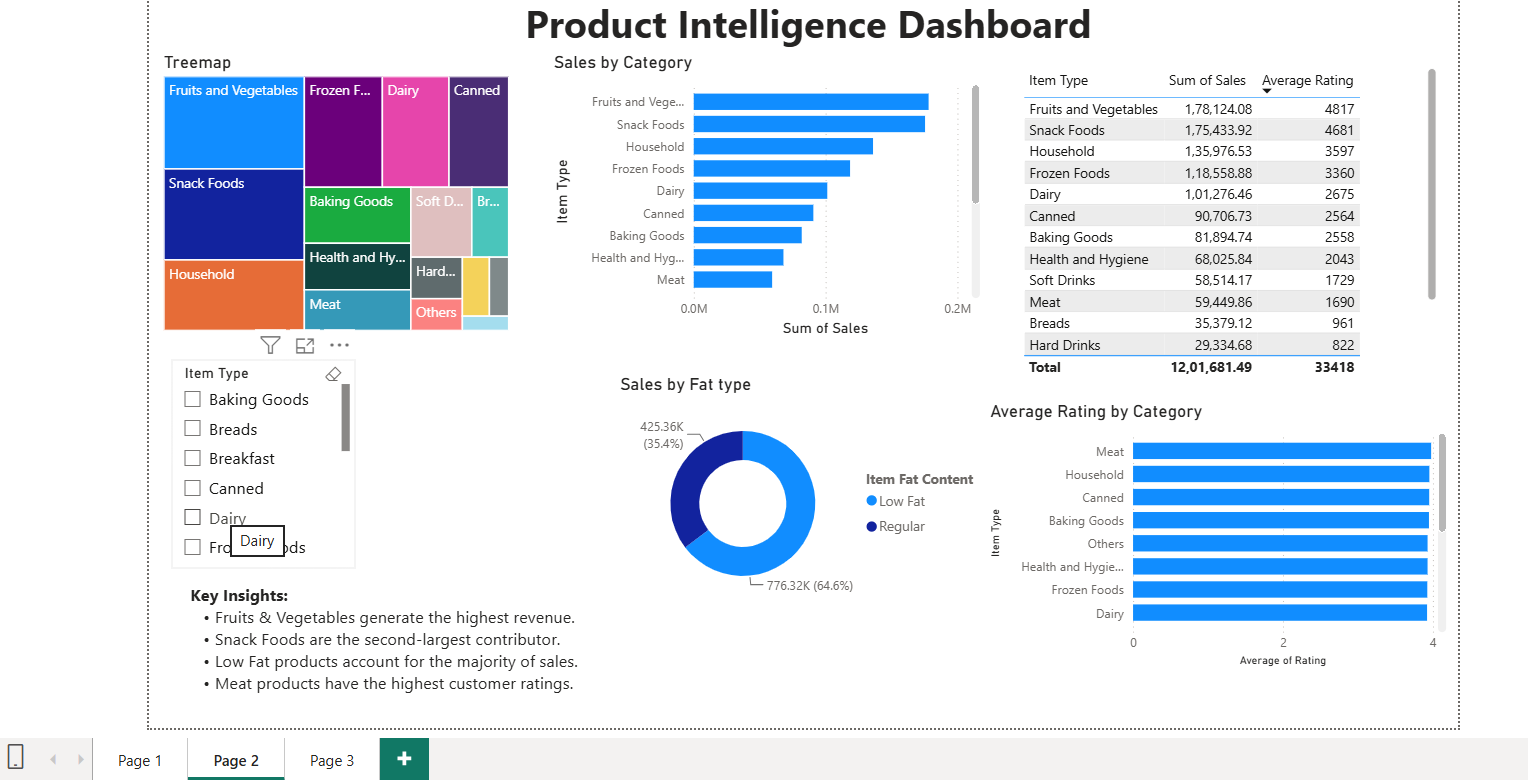

This screenshot's page, from the dashboard's own definition file:
{"tool":"powerbi","page":{"name":"Page 2","canvas":[1280,720],"ordinal":1},"visuals":[{"type":"textbox","box":[9.8,0,1270.5,69.7],"z":0},{"type":"clusteredBarChart","title":"Sales by Category","fields":{"Category":["Sheet1.Item Type"],"Y":["Sum(Sheet1.Sales)"]},"box":[391.3,58.7,426.8,283.7],"z":1000},{"type":"donutChart","title":"Sales by Fat type","fields":{"Category":["Sheet1.Item Fat Content"],"Y":["Sum(Sheet1.Sales)"]},"box":[456.1,373,362,236],"z":2000},{"type":"barChart","title":"Average Rating by Category","fields":{"Category":["Sheet1.Item Type"],"Y":["Avg(Sheet1.Rating)"]},"box":[818.1,399.9,456.1,265.4],"z":3000},{"type":"tableEx","fields":{"Values":["Sheet1.Item Type","Sum(Sheet1.Sales)","Sum(Sheet1.Rating)"]},"box":[849.9,69.7,414.5,311.8],"z":4000},{"type":"treemap","title":"Treemap","fields":{"Group":["Sheet1.Item Type"],"Values":["Sum(Sheet1.Sales)"]},"box":[9.8,58.7,347.3,277.6],"z":5000},{"type":"slicer","fields":{"Values":["Sheet1.Item Type"]},"box":[22,359.5,179.8,204.2],"z":6000},{"type":"textbox","box":[35.5,573.5,446.3,124.7],"z":8000}]}

Visuals, with their boxes on the page's 1280x720 design canvas (x1, y1, x2, y2). These are canvas units, not pixel positions in the 1528x780 screenshot, which may show the page scaled, cropped or inside an application window:
textbox: (10,0,1280,70)
"Sales by Category" clusteredBarChart: (391,59,818,342)
"Sales by Fat type" donutChart: (456,373,818,609)
"Average Rating by Category" barChart: (818,400,1274,665)
tableEx - Sheet1.Item Type x Sum(Sheet1.Sales): (850,70,1264,382)
"Treemap" treemap: (10,59,357,336)
slicer - Sheet1.Item Type: (22,360,202,564)
textbox: (36,574,482,698)
